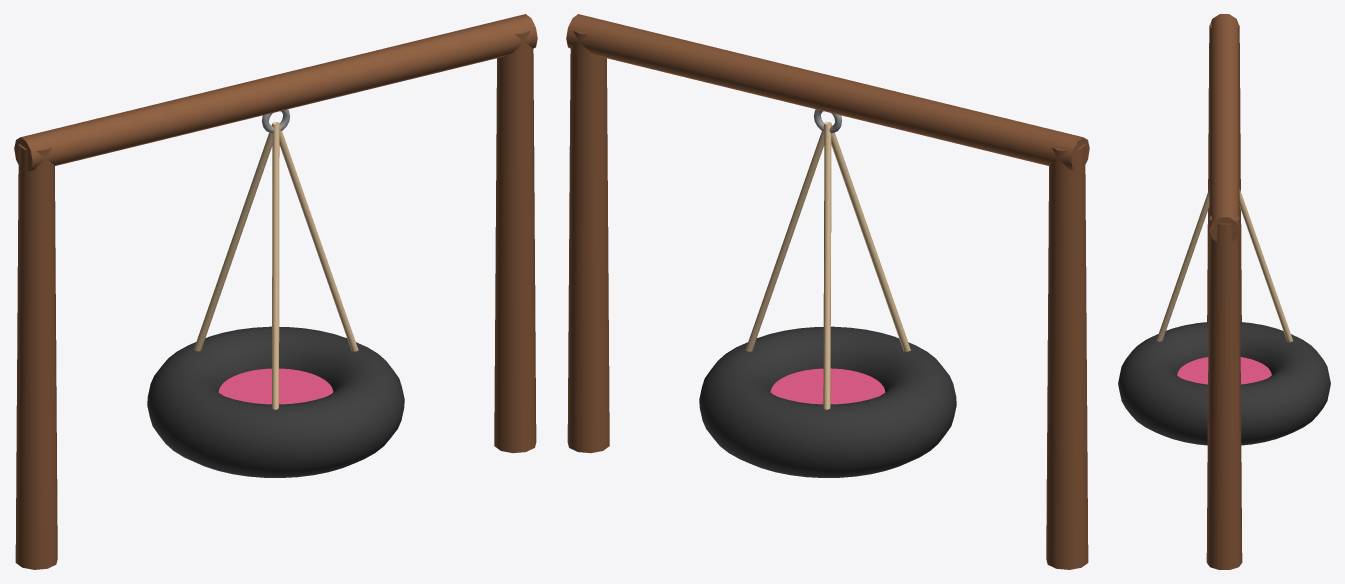
The model's file is hammock-tire.glb.
3 views of the same model, side by side, from view 1: azimuth 30°, elevation 25°; view 2: azimuth 150°, elevation 25°; view 3: azimuth 270°, elevation 25° (orthographic). The views are drawn at different scales.
Bounding box in the file's own units: 1.93 × 1.53 × 0.84.
